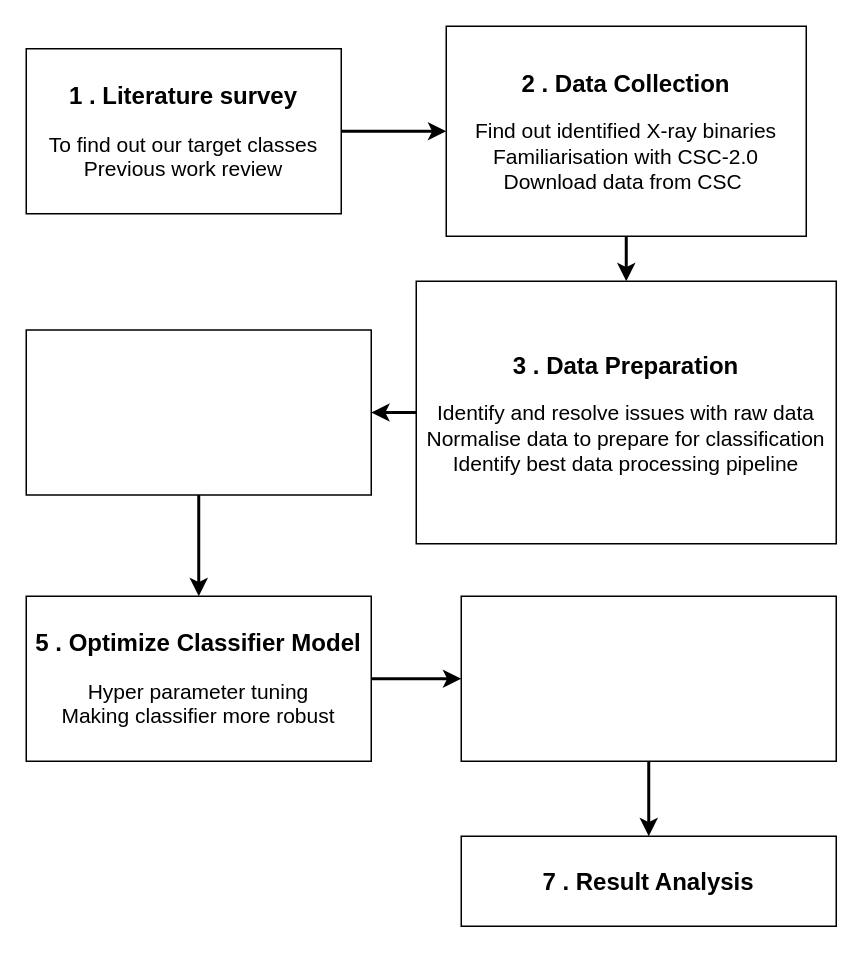
The diagram is 863 pixels wide and 953 high, and some of its shapes have lost their labels. Each missing label, with the centre of its shape:
4 . Design Classifier Identify best classifier model Evaluate these models: the point at 198,411
6 . Implement Classifier Model Use classifier eveloped on Validation dataset: the point at 648,678
